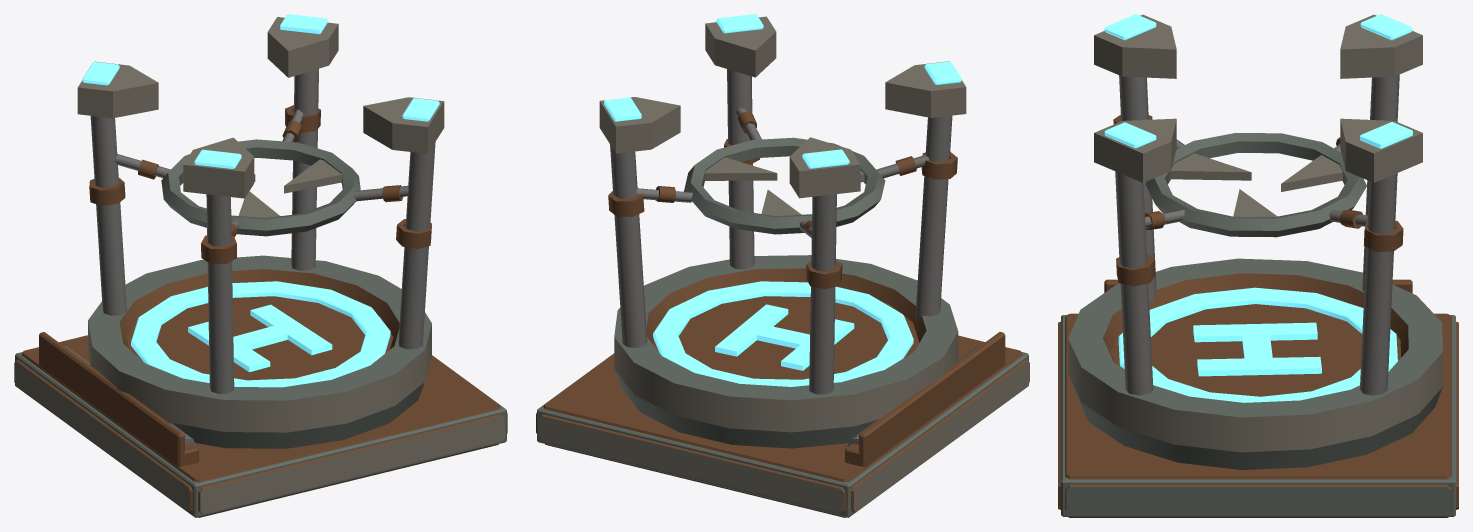
The model's file is R4X_FlyingDroneDeployer.fbx.
3 renders of one model, left to right at view 1: azimuth 30°, elevation 25°; view 2: azimuth 150°, elevation 25°; view 3: azimuth 270°, elevation 25°, orthographic. The views are drawn at different scales.
Parts seen in each view (by area): view 1: R4X_FlyingDroneDeployer_Body, R4X_FlyingDroneDeployer_Iris; view 2: R4X_FlyingDroneDeployer_Body, R4X_FlyingDroneDeployer_Iris; view 3: R4X_FlyingDroneDeployer_Body, R4X_FlyingDroneDeployer_Iris.
Boxes of the visible parts, bbox=[...] form: R4X_FlyingDroneDeployer_Body: bbox=[14, 14, 507, 517]; R4X_FlyingDroneDeployer_Iris: bbox=[161, 139, 360, 236]; R4X_FlyingDroneDeployer_Body: bbox=[536, 14, 1029, 517]; R4X_FlyingDroneDeployer_Iris: bbox=[684, 137, 885, 234]; R4X_FlyingDroneDeployer_Body: bbox=[1058, 14, 1458, 517]; R4X_FlyingDroneDeployer_Iris: bbox=[1145, 133, 1366, 237].
Bounding box in the file's own units: 0.52 × 0.513 × 0.52.
